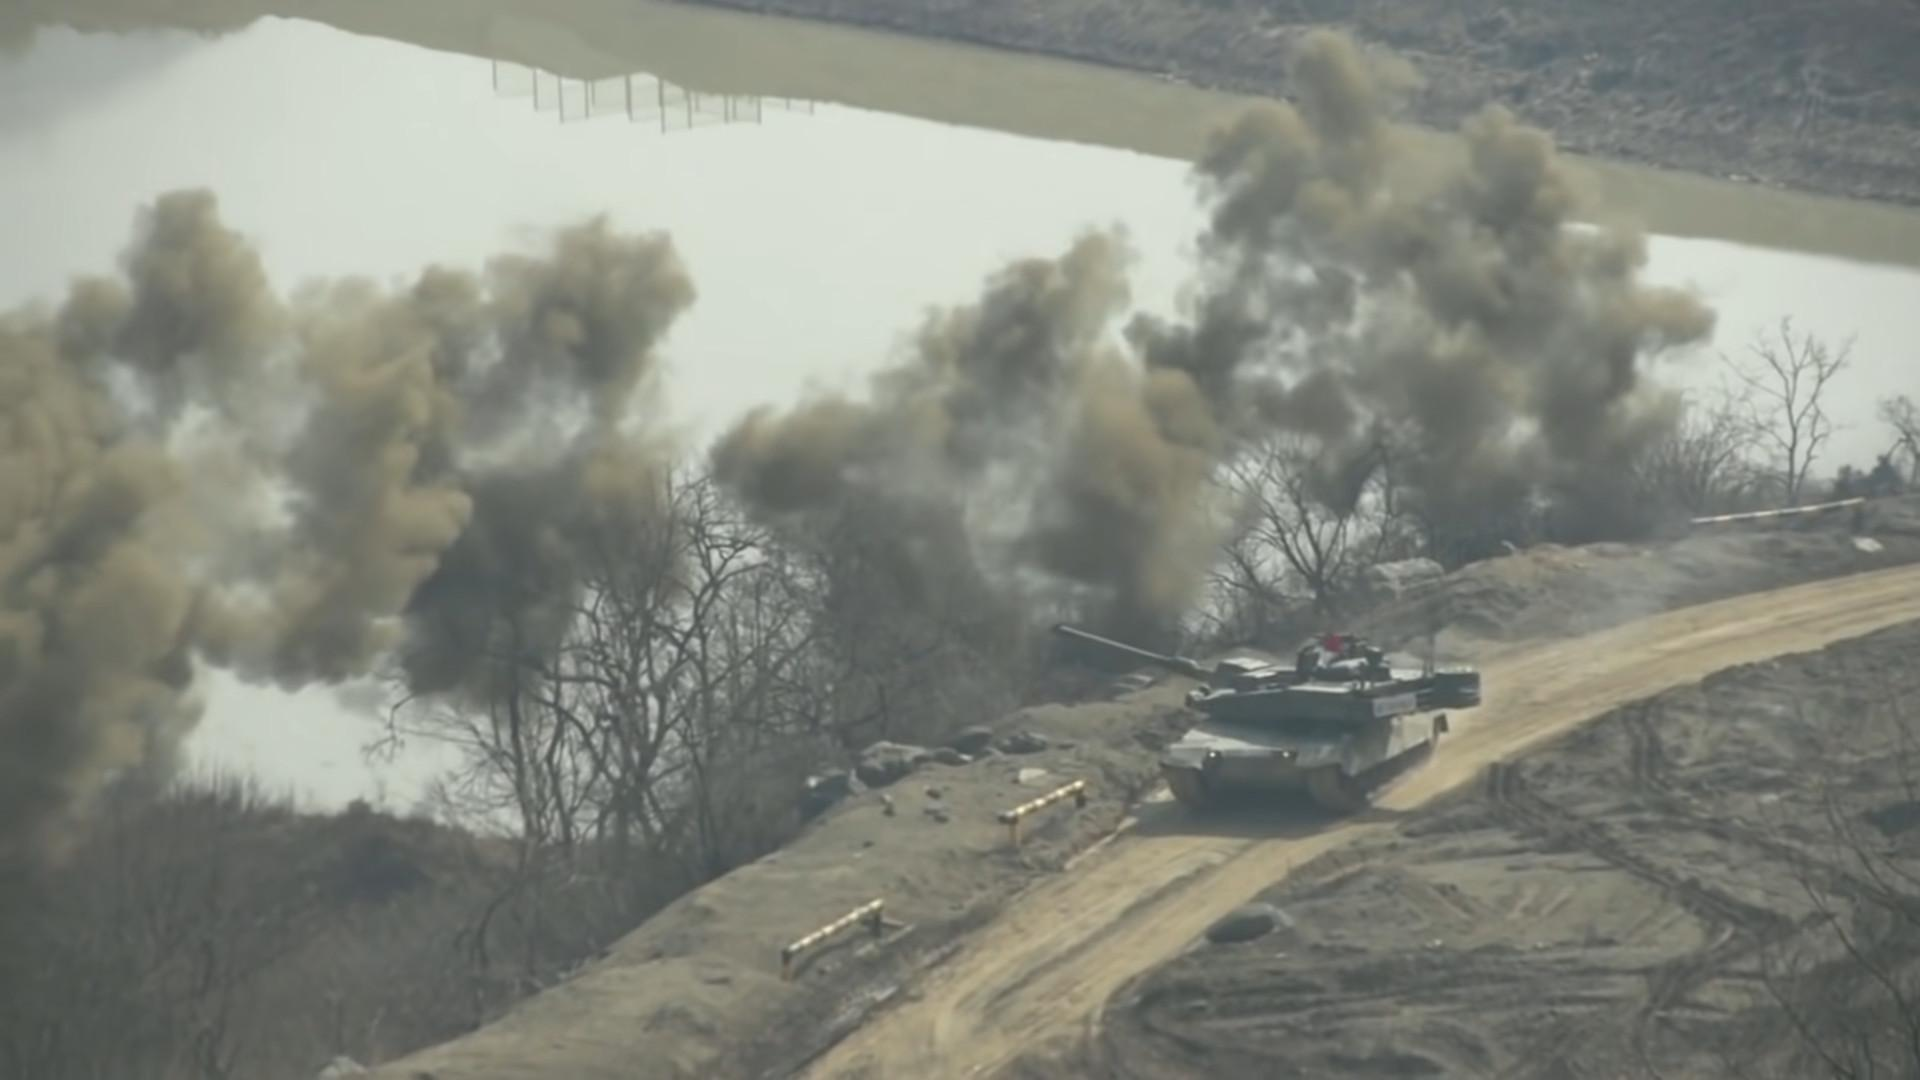tank: (1057, 623, 1480, 813)
